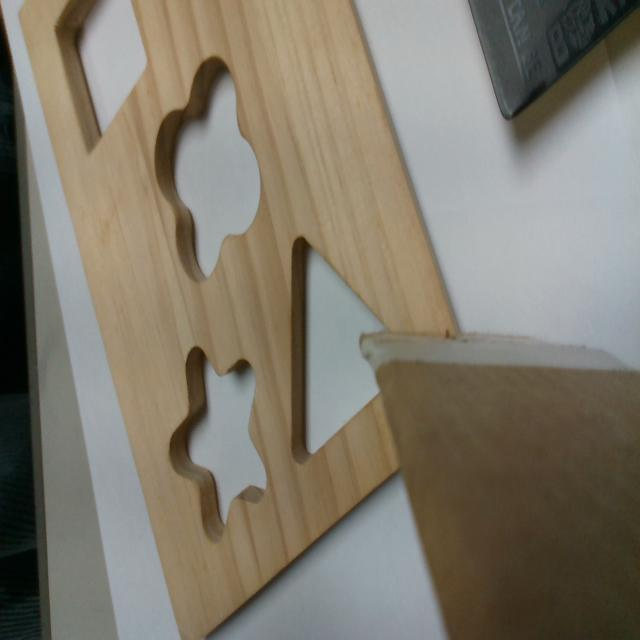flower: (150, 59, 265, 283)
square: (55, 2, 150, 151)
star: (168, 348, 267, 539)
triangle: (289, 231, 393, 468)
